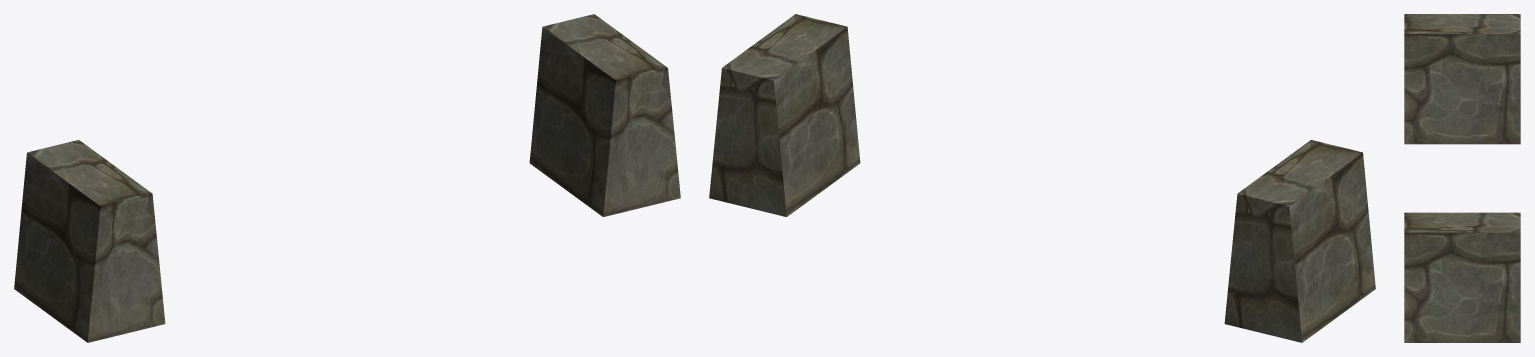
File: Hashi_tsunagi.fbx
3 views of the same model, side by side, from view 1: azimuth 30°, elevation 25°; view 2: azimuth 150°, elevation 25°; view 3: azimuth 270°, elevation 25° (orthographic). The views are drawn at different scales.
Parts seen in each view (by area): view 1: polySurface19; view 2: polySurface19; view 3: polySurface19.
Part boxes in pixels (x1=…): polySurface19: x1=14, y1=14, x2=680, y2=342; polySurface19: x1=709, y1=14, x2=1375, y2=342; polySurface19: x1=1404, y1=14, x2=1520, y2=342.
Size of the model in its own units: 1264 by 272 by 272.
Materials: 1 (1 with a texture image).
